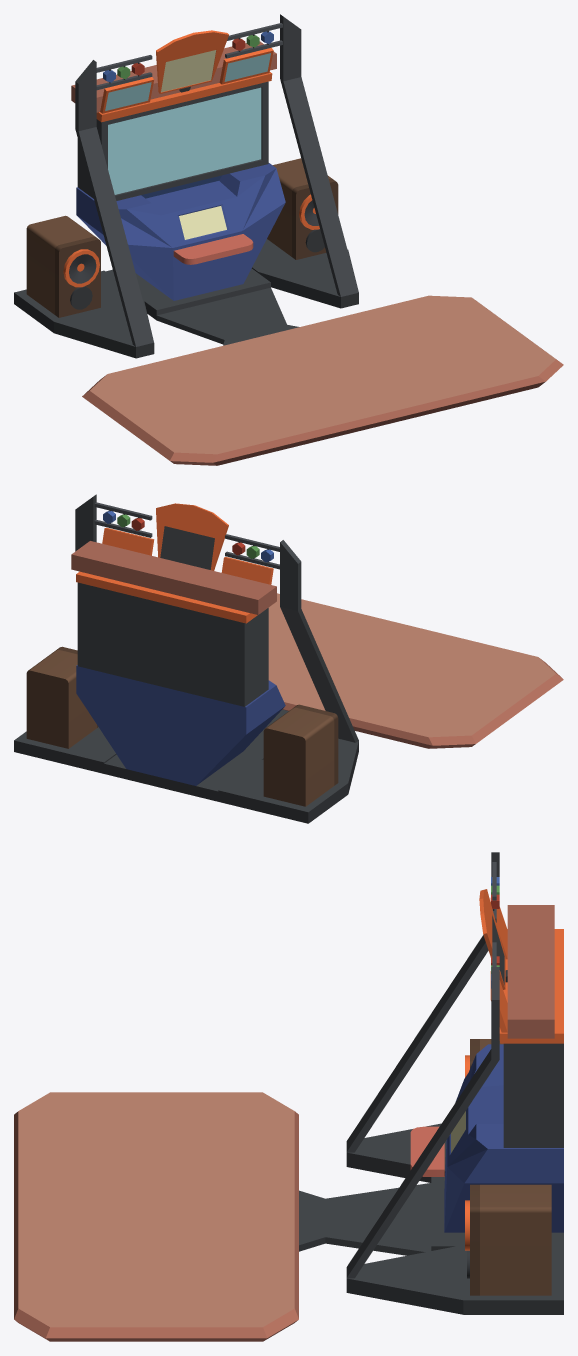
Rendered from SM_GameArea_RecreationalMachines_03.fbx.
3 views of the same model, one above another, from view 1: azimuth 30°, elevation 25°; view 2: azimuth 150°, elevation 25°; view 3: azimuth 270°, elevation 25° (orthographic). The views are drawn at different scales.
Visible parts, largest first — view 1: SM_GameArea_RecreationalMachines_03; view 2: SM_GameArea_RecreationalMachines_03; view 3: SM_GameArea_RecreationalMachines_03.
Part boxes in pixels (box(x1,y1,x2,y2)): SM_GameArea_RecreationalMachines_03: box(14, 14, 563, 465); SM_GameArea_RecreationalMachines_03: box(14, 494, 563, 823); SM_GameArea_RecreationalMachines_03: box(14, 852, 563, 1341).
Size of what is drawn, in the model's own units: 1789 by 1123 by 1717.
